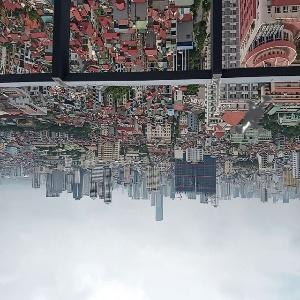drone: (202, 66, 300, 164)
